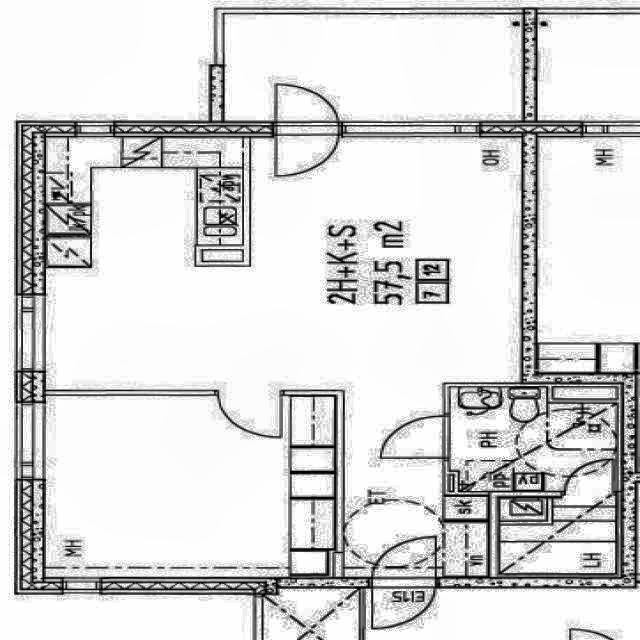room: (46, 397, 331, 576), (452, 388, 613, 490)
